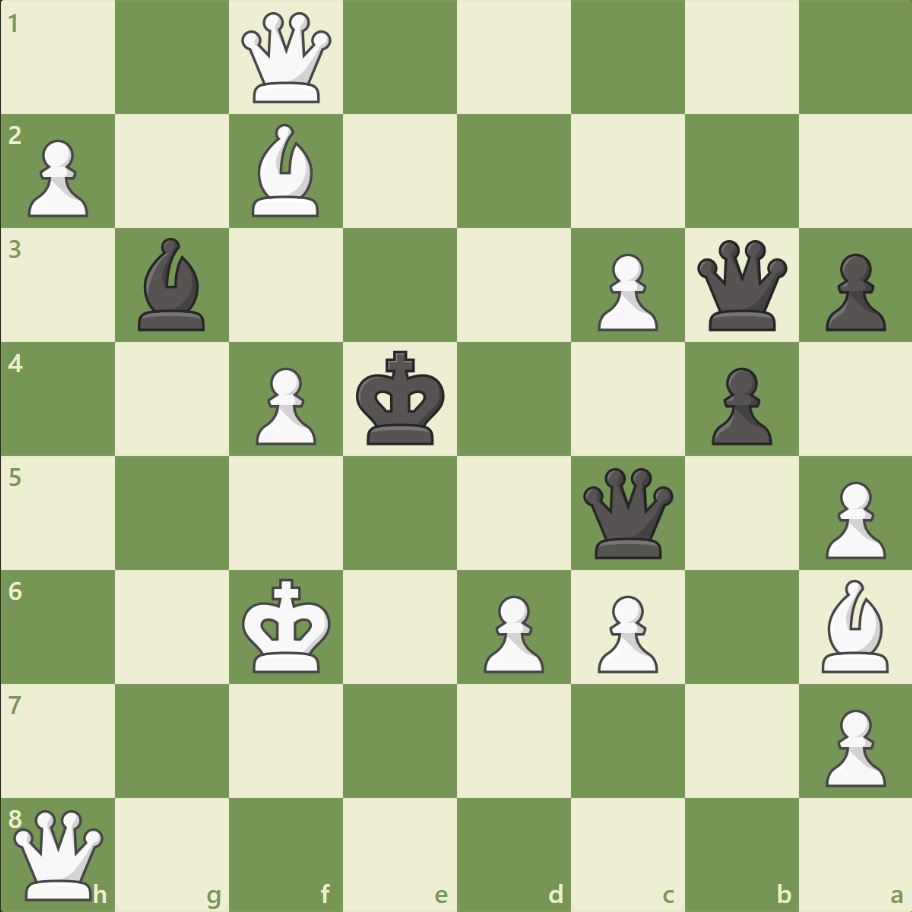B: (812, 574, 896, 676), (244, 120, 328, 222)
K: (238, 571, 338, 679)
P: (474, 586, 549, 677), (247, 359, 322, 450), (20, 132, 95, 223), (815, 700, 889, 791), (588, 586, 662, 677), (815, 473, 889, 564), (588, 246, 662, 337)
Q: (10, 804, 109, 903), (237, 9, 336, 108)
b: (131, 233, 215, 336)
k: (351, 344, 451, 452)
p: (701, 359, 776, 450), (815, 246, 889, 337)
q: (578, 463, 677, 562), (691, 236, 790, 335)
